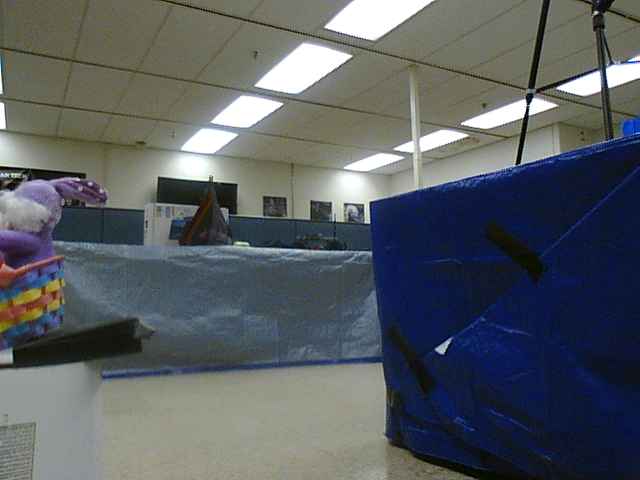bunny: (1, 165, 109, 340)
